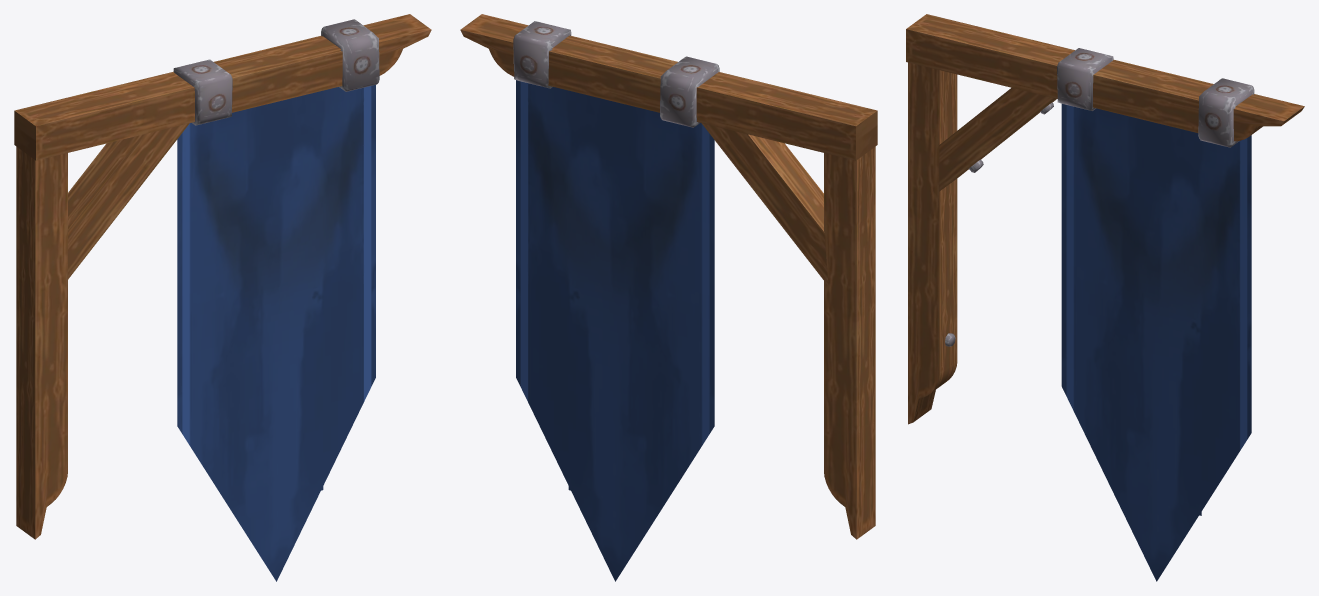
The model's file is Banner_2.glb.
3 renders of one model, left to right at view 1: azimuth 30°, elevation 25°; view 2: azimuth 150°, elevation 25°; view 3: azimuth 330°, elevation 25°, orthographic. The views are drawn at different scales.
Parts seen in each view (by area): view 1: Banner_2; view 2: Banner_2; view 3: Banner_2.
Part boxes in pixels (x1,y1,x2,y2): Banner_2: (14, 14, 431, 581); Banner_2: (460, 14, 877, 581); Banner_2: (906, 14, 1304, 581).
Size of the model in its own units: 1.61 by 2.08 by 0.1907.
Materials: 3 (3 with a texture image).
